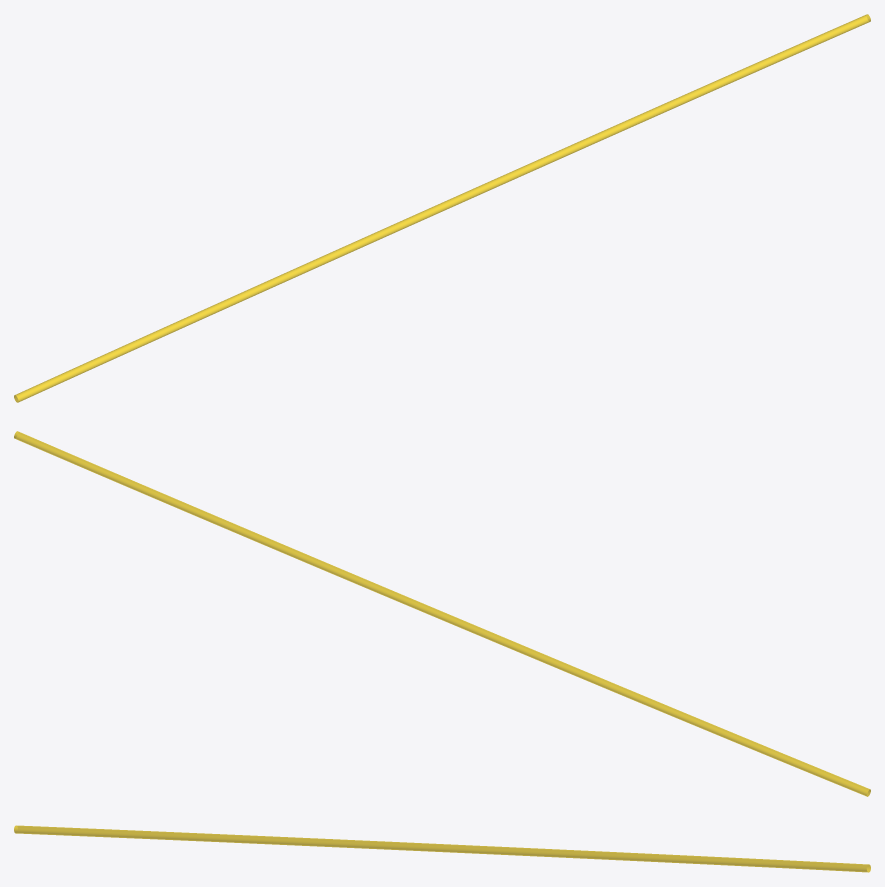
File: Event_31209032_track_20.fbx
3 renders of one model, top to bottom at view 1: azimuth 30°, elevation 25°; view 2: azimuth 150°, elevation 25°; view 3: azimuth 330°, elevation 25°, orthographic. The views are drawn at different scales.
Parts seen in each view (by area): view 1: Model; view 2: Model; view 3: Model.
Boxes of the visible parts, <box> form: Model: <box>14,14,870,402</box>; Model: <box>14,431,870,796</box>; Model: <box>14,825,870,872</box>.
Bounding box in the file's own units: 4.82 × 0.9103 × 0.1362.
